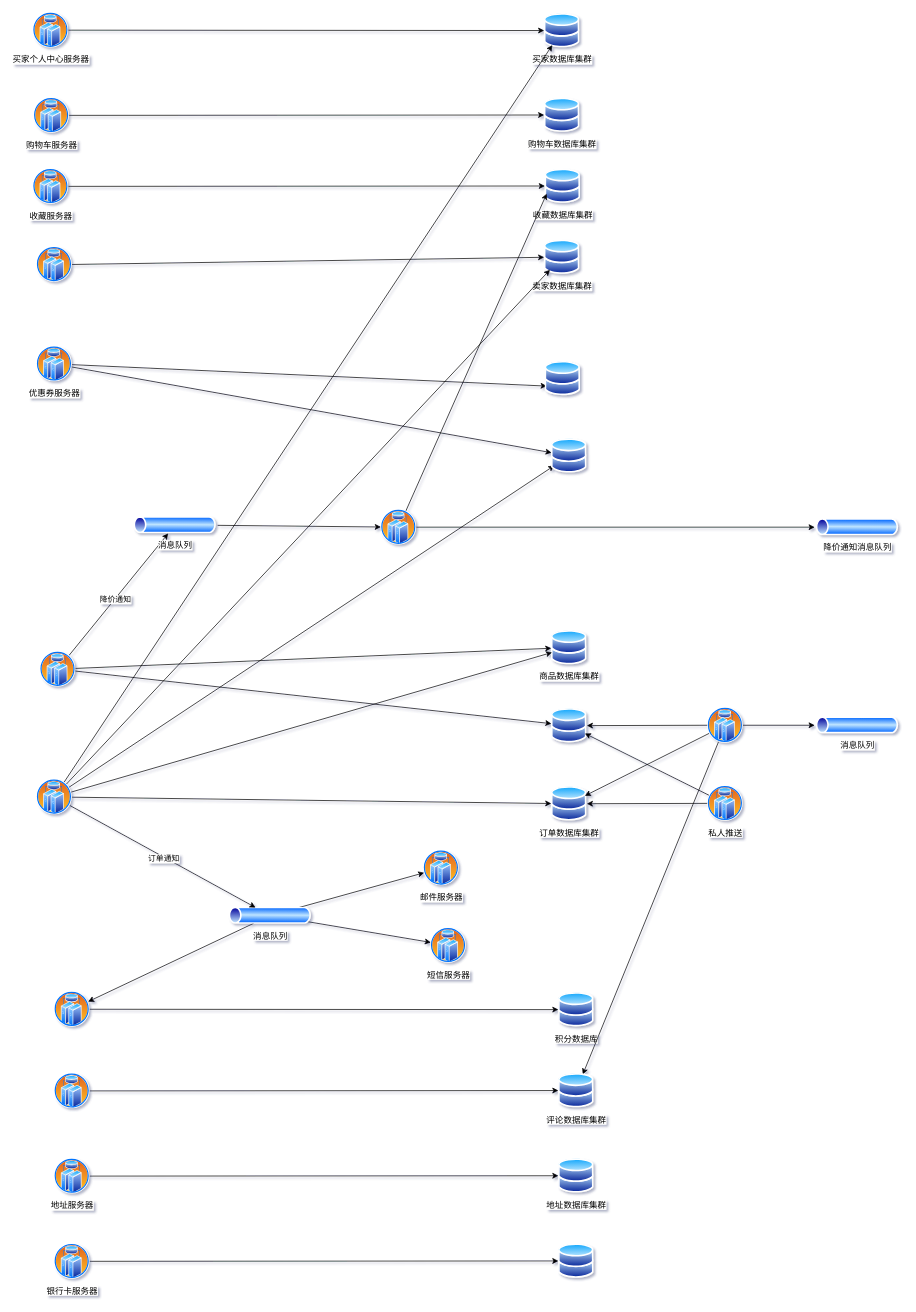
Some shapes in this 916 by 1312 pixel diagram are drawn without their labels. The centre of each missing label's shape, as x and y in pixels:
"优惠券仓库数据库集群" belongs at point 562,378.
"优惠券数据库集群" belongs at point 568,455.
"卖家个人中心服务器" belongs at point 54,264.
"商品服务器" belongs at point 57,669.
"广告服务器" belongs at point 725,725.
"浏览记录数据库" belongs at point 568,725.
"积分服务器" belongs at point 71,1009.
"订单服务器" belongs at point 54,796.
"评论服务器" belongs at point 71,1090.
"银行卡数据库集群" belongs at point 576,1260.
"降价通知服务器" belongs at point 398,527.
